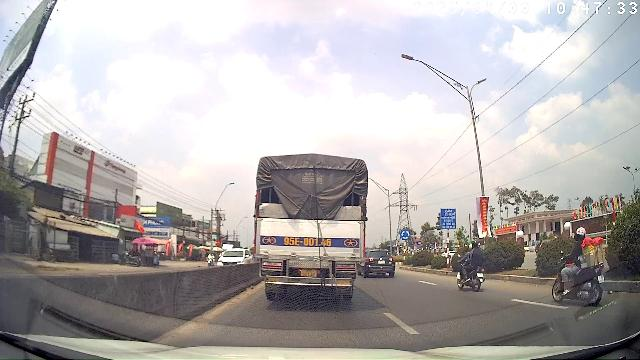303-noi-giao-nhau-chay-theo-vong-xuyen: (400, 229, 411, 240)
